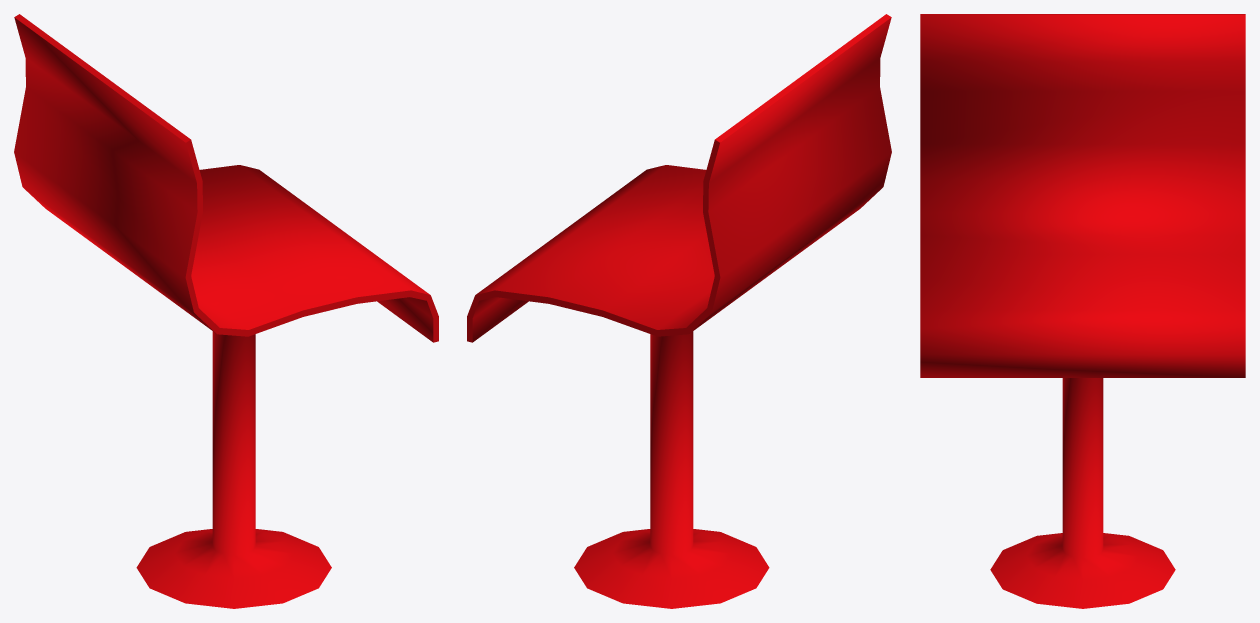
The model's file is rotating_chair.glb.
3 views of the same model, side by side, from view 1: azimuth 30°, elevation 25°; view 2: azimuth 150°, elevation 25°; view 3: azimuth 270°, elevation 25° (orthographic). The views are drawn at different scales.
Parts seen in each view (by area): view 1: rotating_chair; view 2: rotating_chair; view 3: rotating_chair.
Part boxes in pixels (<box>): rotating_chair: <box>14,14,438,608</box>; rotating_chair: <box>467,14,891,608</box>; rotating_chair: <box>920,14,1245,608</box>.
Size of the model in its own units: 0.6025 by 1.19 by 0.7066.
